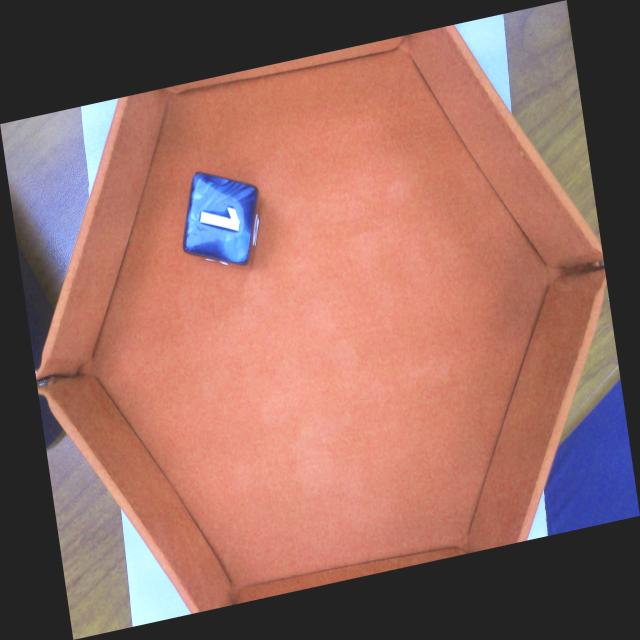dice: (183, 172, 258, 266)
